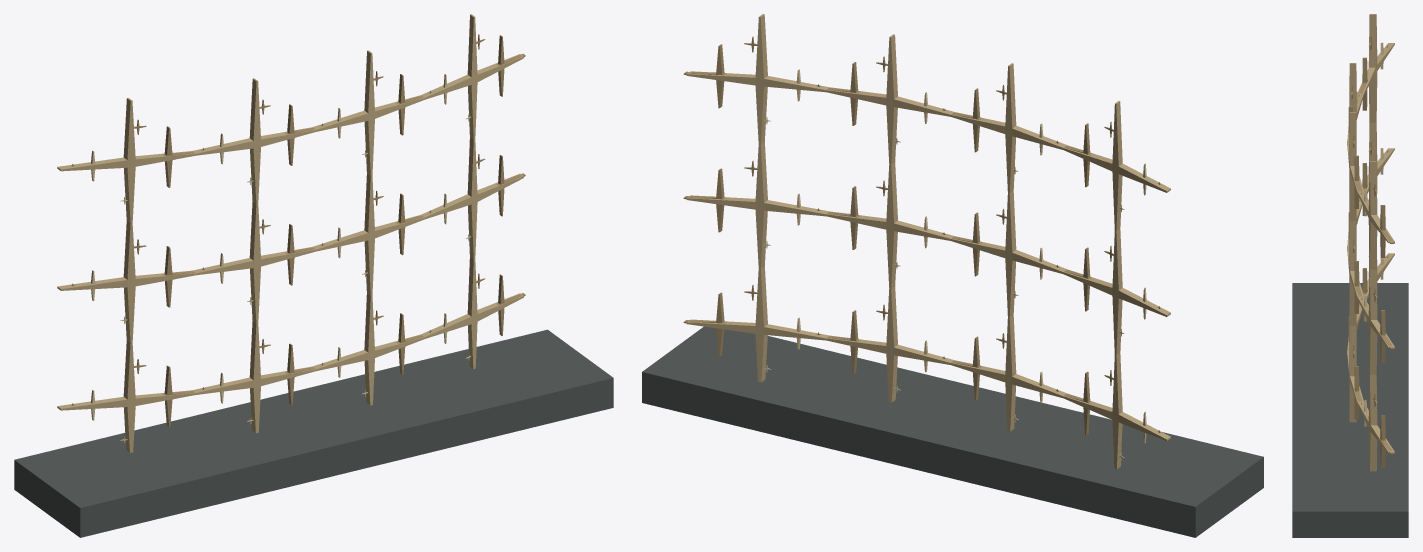
File: protospongia.glb
3 renders of one model, left to right at view 1: azimuth 30°, elevation 25°; view 2: azimuth 150°, elevation 25°; view 3: azimuth 270°, elevation 25°, orthographic. The views are drawn at different scales.
Parts seen in each view (by area): view 1: protospongia-six-order-wall-fragment; view 2: protospongia-six-order-wall-fragment; view 3: protospongia-six-order-wall-fragment.
Part boxes in pixels (box(x1,y1,x2,y2)): protospongia-six-order-wall-fragment: box(14, 14, 613, 537); protospongia-six-order-wall-fragment: box(642, 14, 1263, 537); protospongia-six-order-wall-fragment: box(1292, 14, 1408, 537).
Bounding box in the file's own units: 0.056 × 0.0383 × 0.012.
